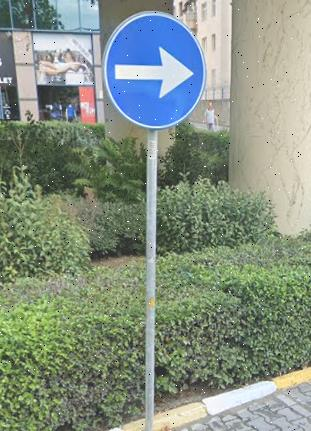turnright: (102, 14, 209, 126)
